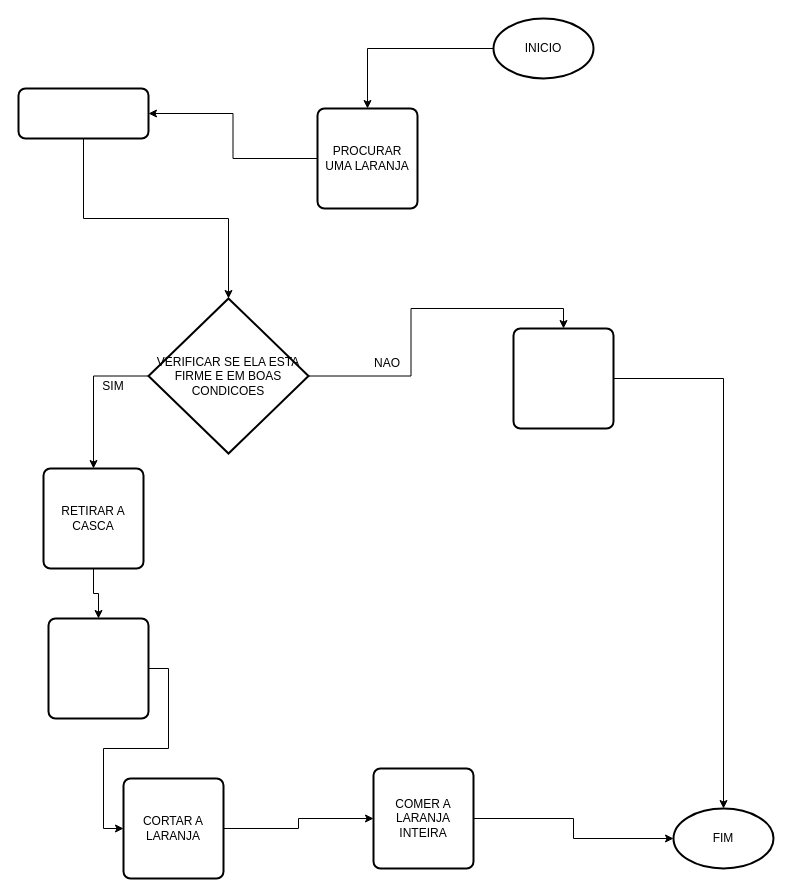
Image size: 791x896. Some labels were removed from this diagram. The shapes that lost their labels are listed below. From the top down, each one's box as (x1, y1, x2, y2) in pixels, then its label:
(17, 87, 149, 139): LAVAR A LARANJA
(512, 327, 614, 429): JOGAR NO LIXO
(47, 617, 149, 719): SEPARAR A CASCA DA FRUTA
